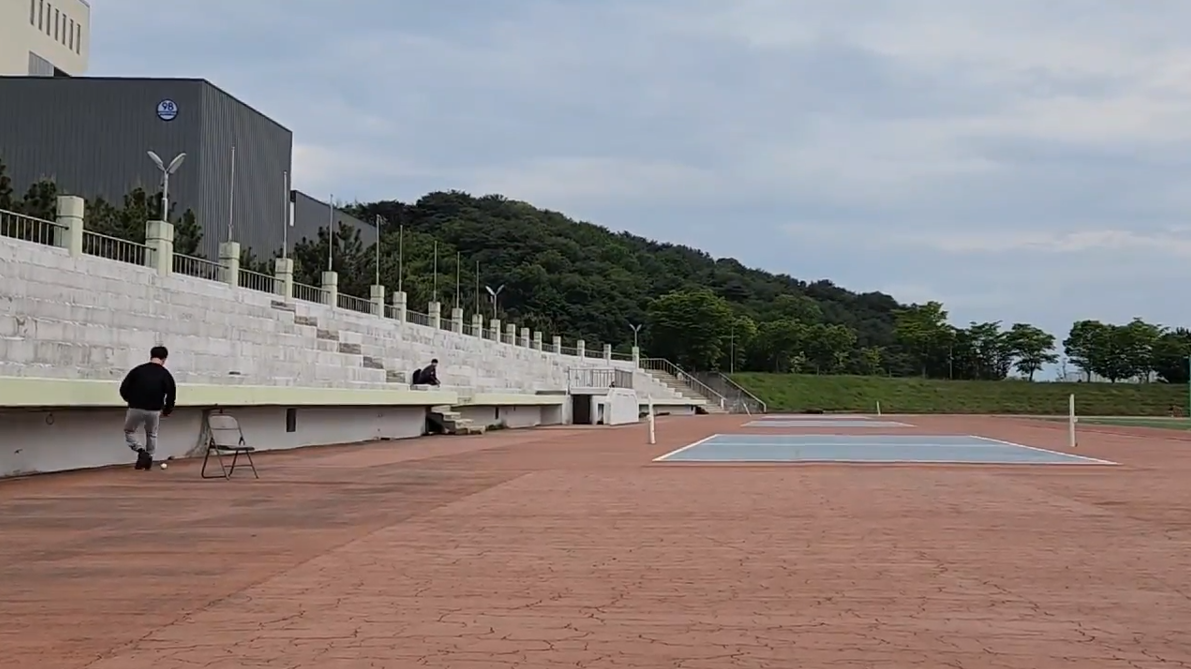ball: (160, 460, 169, 470)
